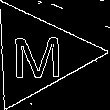M_N: (11, 28, 65, 80)
